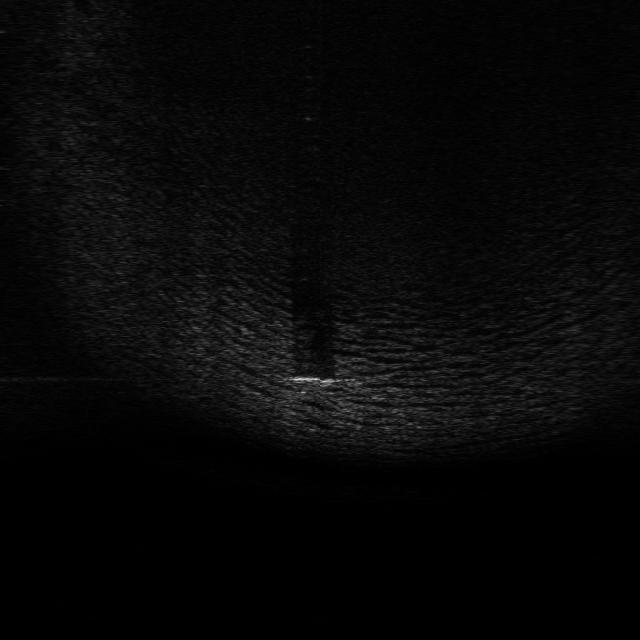cube: (337, 425, 393, 456)
